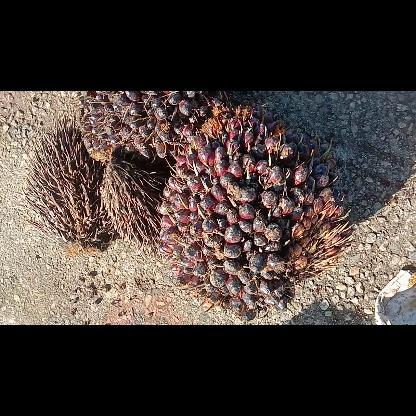Janjang kosong: (25, 112, 116, 254), (98, 157, 162, 261)
TBS mentah: (157, 91, 354, 317), (78, 90, 206, 160)
